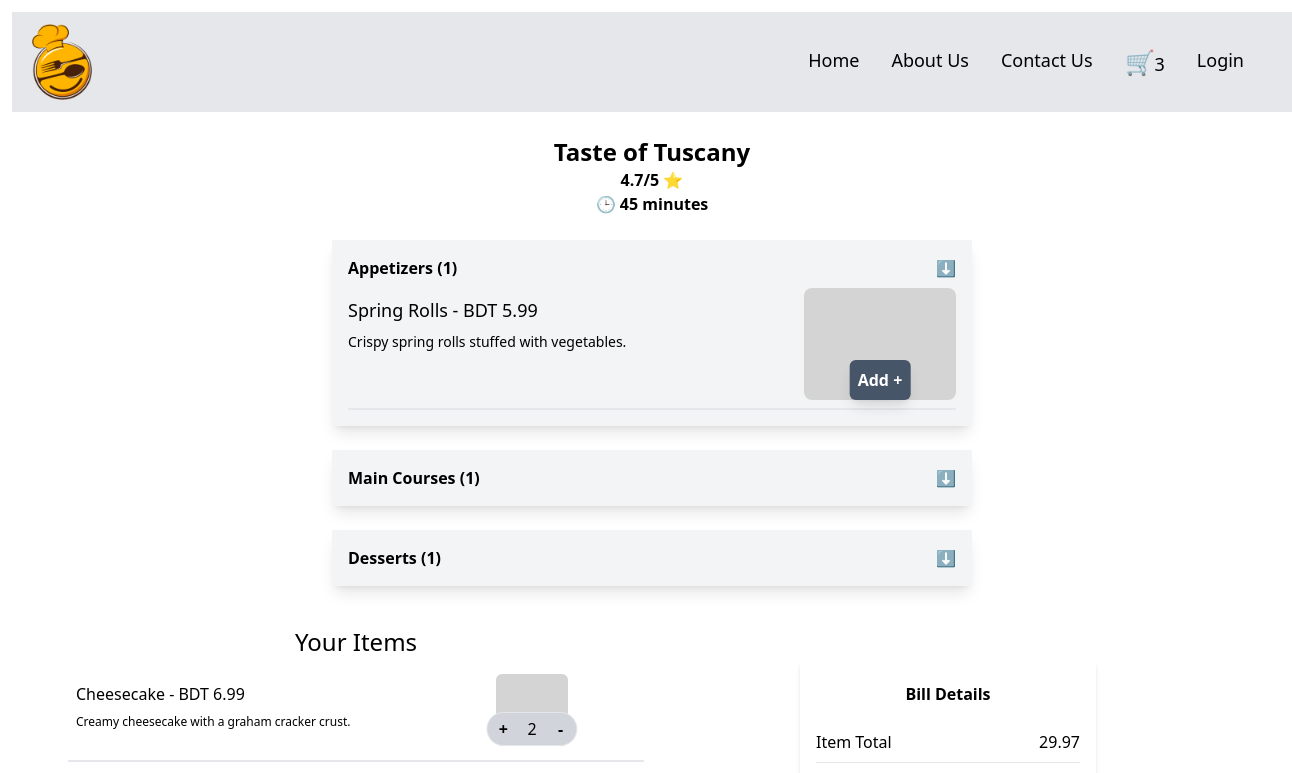
Tests by keeping state › Should remove the item of quantity 2 from cart
Click the button with test id "decQuantity". click: point(561, 729)
box: [545,713,577,745]
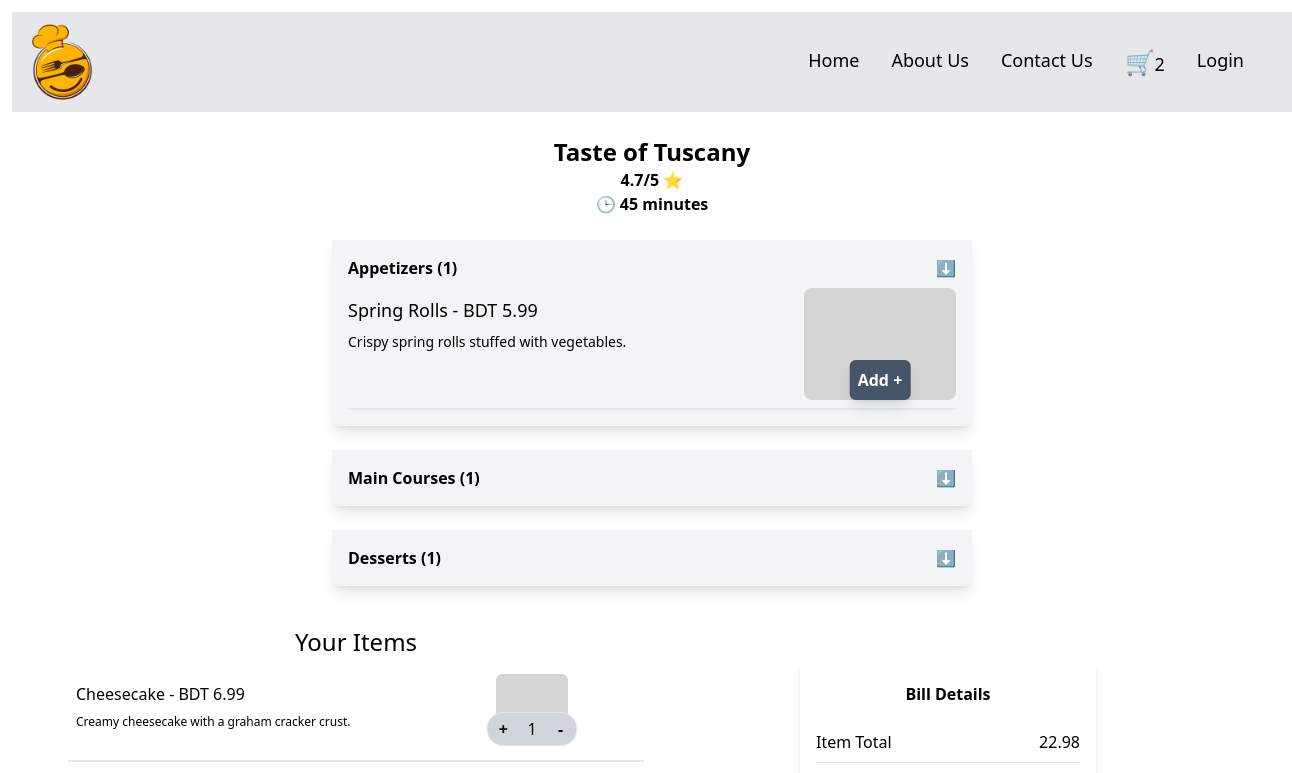
Click the button with test id "decQuantity". click: point(561, 729)
box: [545,713,577,745]
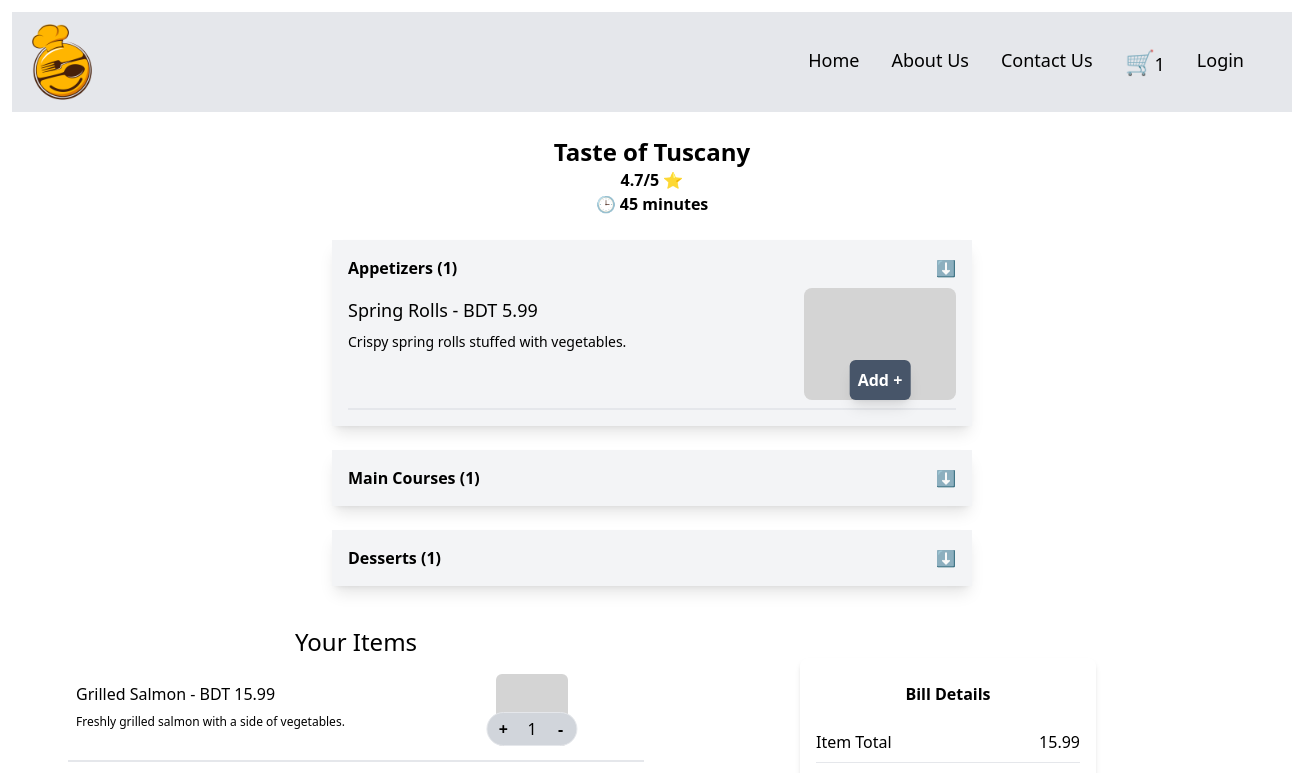
expect the number of elements with test id "cartitem" is 1: met, box [68,666,644,762]
